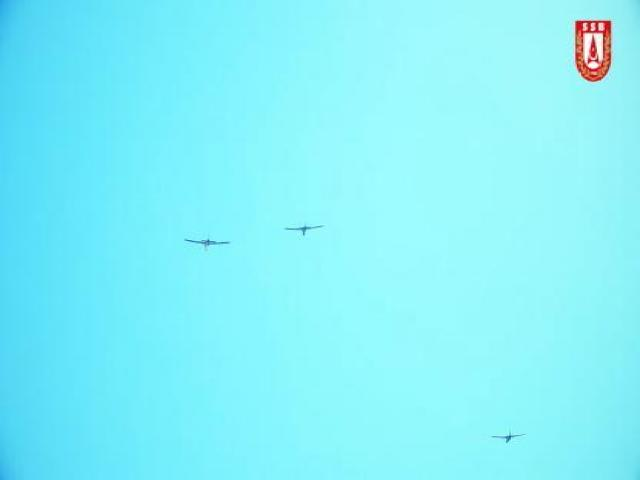uav: (182, 235, 232, 251), (488, 428, 526, 445), (282, 222, 322, 235)
